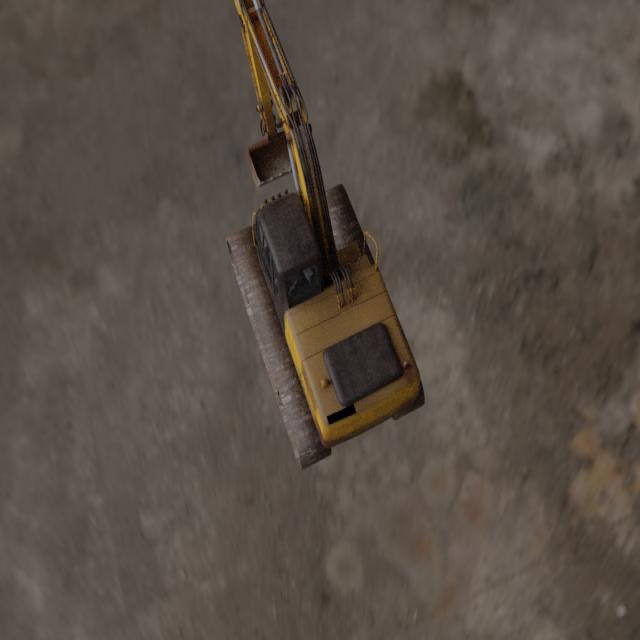excavator: (225, 0, 425, 472)
